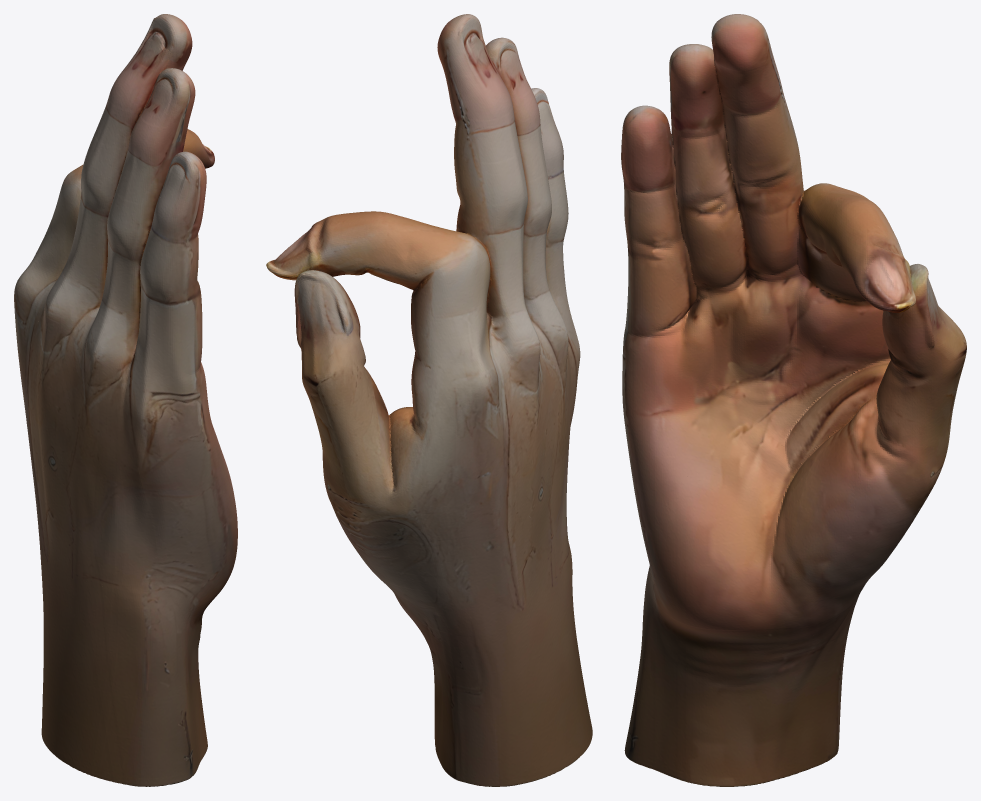
File: letter_F.glb
3 views of the same model, side by side, from view 1: azimuth 30°, elevation 25°; view 2: azimuth 150°, elevation 25°; view 3: azimuth 270°, elevation 25° (orthographic). The views are drawn at different scales.
Visible parts, largest first — view 1: tripo_node_26fe751c-622c-4d05-af25-a24926a1d340; view 2: tripo_node_26fe751c-622c-4d05-af25-a24926a1d340; view 3: tripo_node_26fe751c-622c-4d05-af25-a24926a1d340.
Boxes of the visible parts, left/top/right/bottom form: tripo_node_26fe751c-622c-4d05-af25-a24926a1d340: left=14, top=14, right=237, bottom=786; tripo_node_26fe751c-622c-4d05-af25-a24926a1d340: left=266, top=14, right=592, bottom=786; tripo_node_26fe751c-622c-4d05-af25-a24926a1d340: left=621, top=14, right=966, bottom=786.
Size of the model in its own units: 0.3321 by 1 by 0.4121.
1 material, 1 textured.
